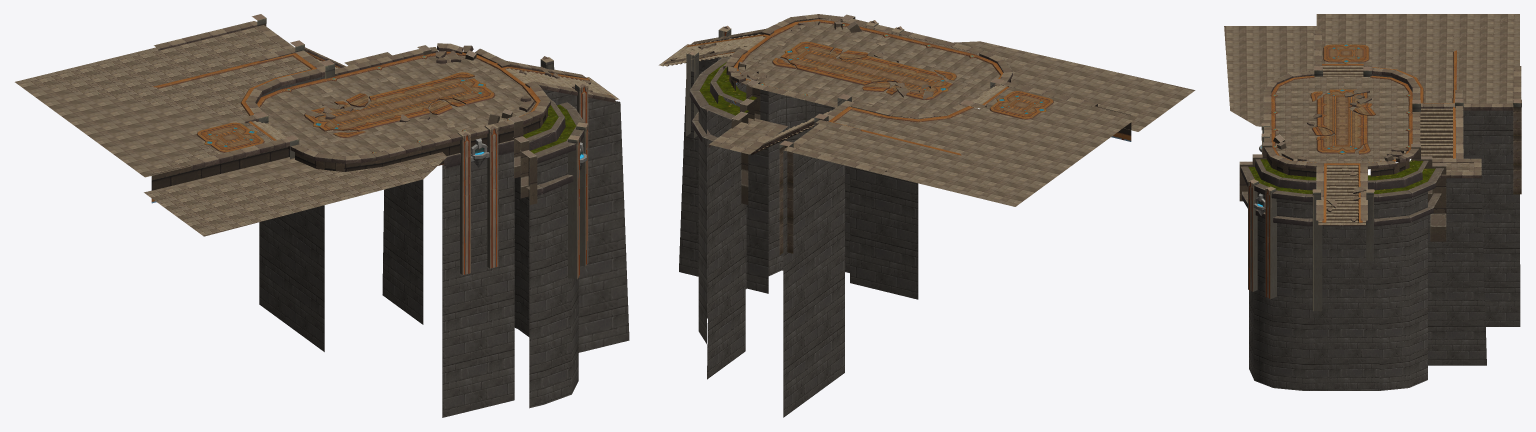
Rendered from section03_guanka09_dimian05.FBX.
The picture shows the model from 3 angles, left to right: view 1: azimuth 30°, elevation 25°; view 2: azimuth 150°, elevation 25°; view 3: azimuth 270°, elevation 25°; orthographic projection. The views are drawn at different scales.
Parts seen in each view (by area): view 1: section03_guanka09_dimian05; view 2: section03_guanka09_dimian05; view 3: section03_guanka09_dimian05.
Part boxes in pixels (x1=…): section03_guanka09_dimian05: x1=15, y1=14, x2=629, y2=417; section03_guanka09_dimian05: x1=659, y1=14, x2=1195, y2=417; section03_guanka09_dimian05: x1=1224, y1=14, x2=1521, y2=390.
Bounding box in the file's own units: 79.11 × 53.95 × 45.13.
